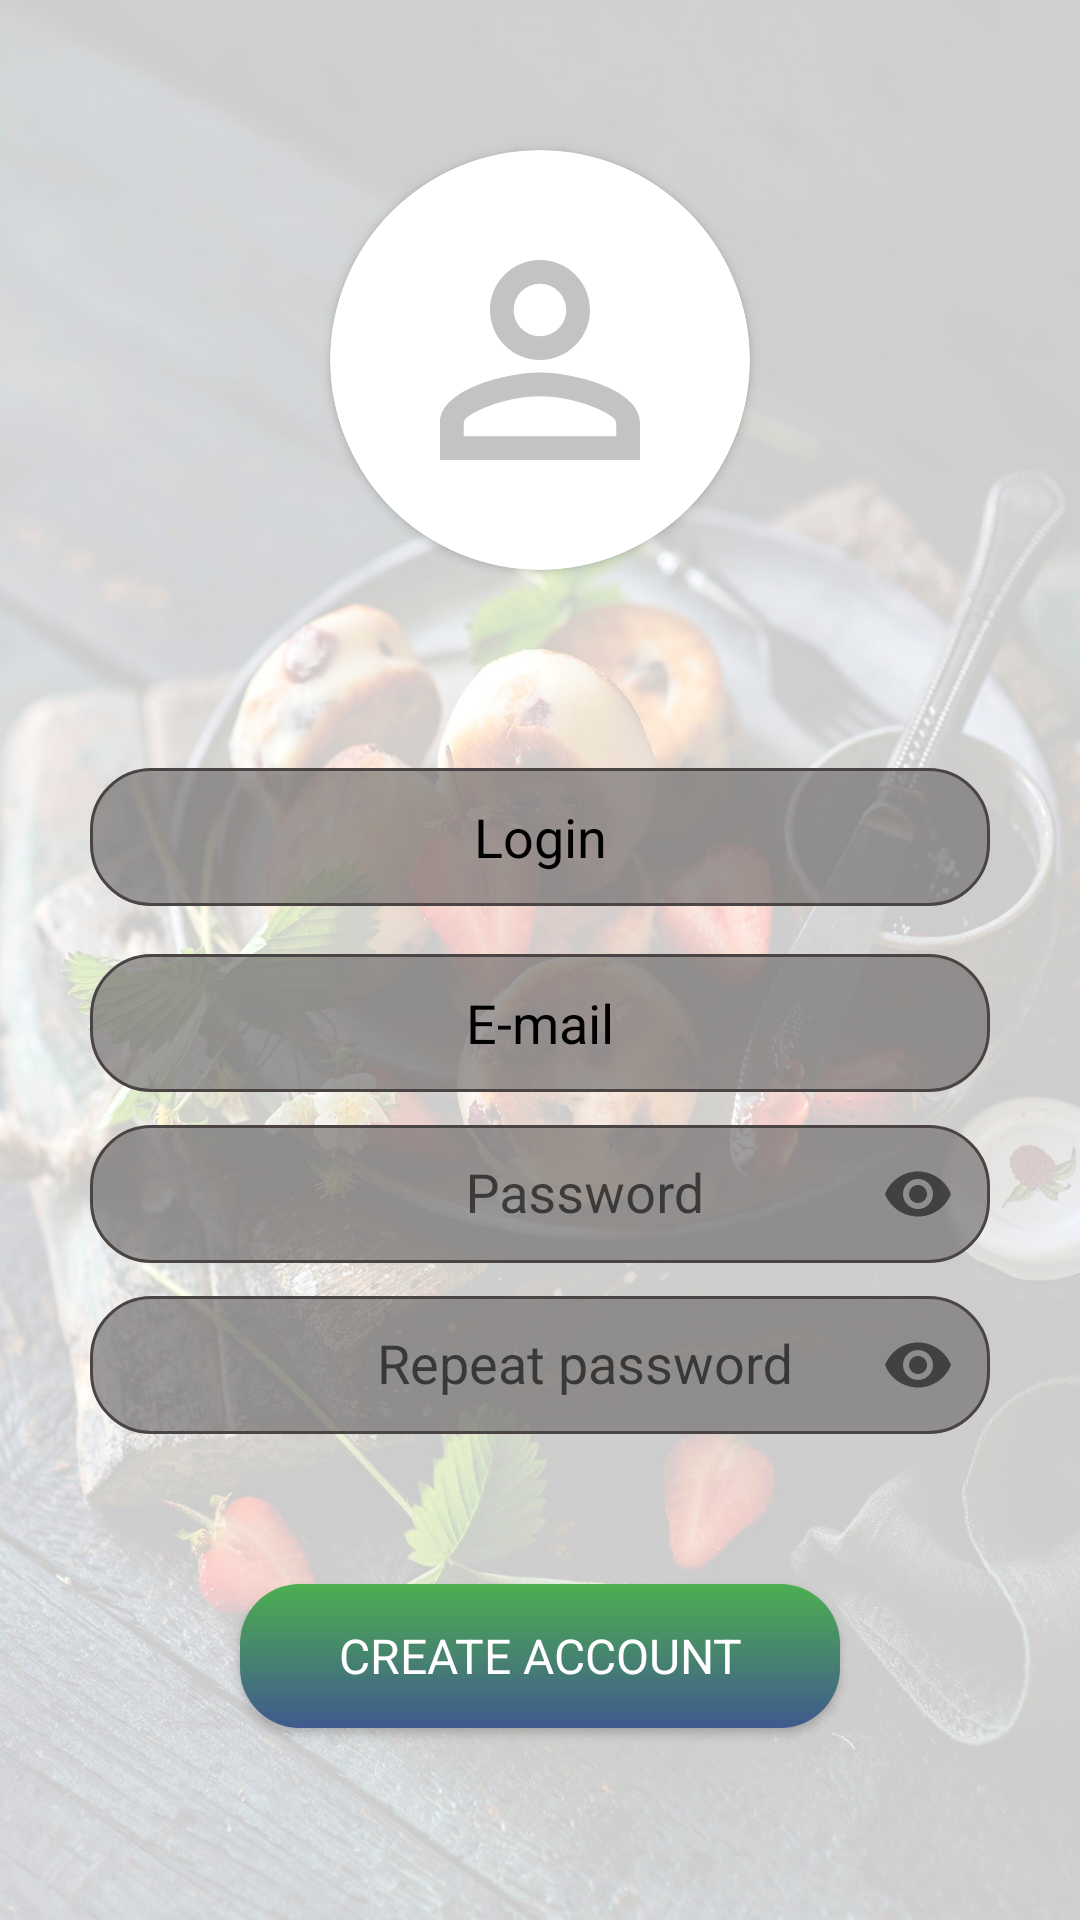

Icons on this 1080px×1920px Android screen, each with its box as (x1, y1, x2, y2):
person: (440, 260, 640, 460)
